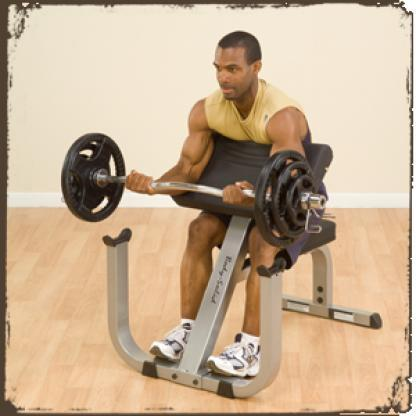arm curl machine: (62, 131, 384, 400)
